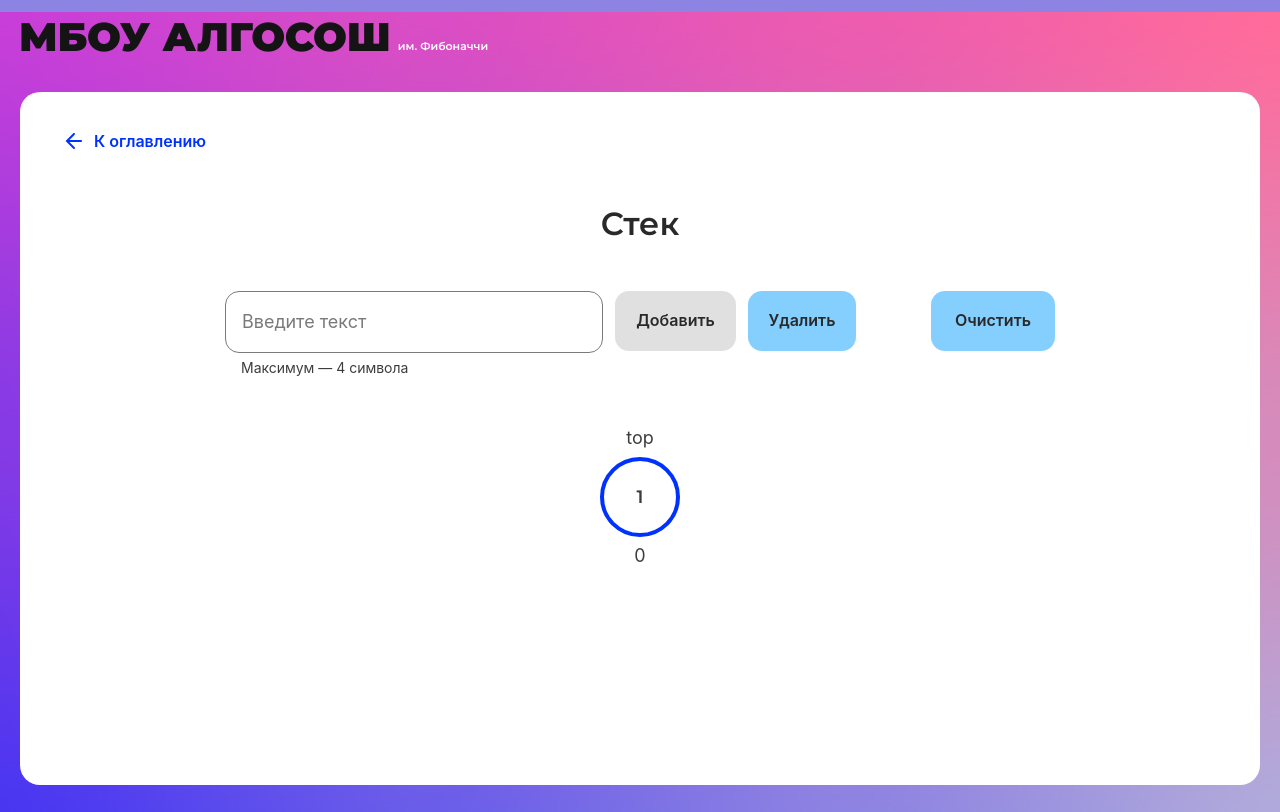
it: Тестирование корректной работы Стека › Добавление второго элемента в Стек происходит корректно
This screenshot has width=1280, height=812.
Type "2" into the field with test id "input".
click(414, 322); type("2")  # box [225,291,603,353]
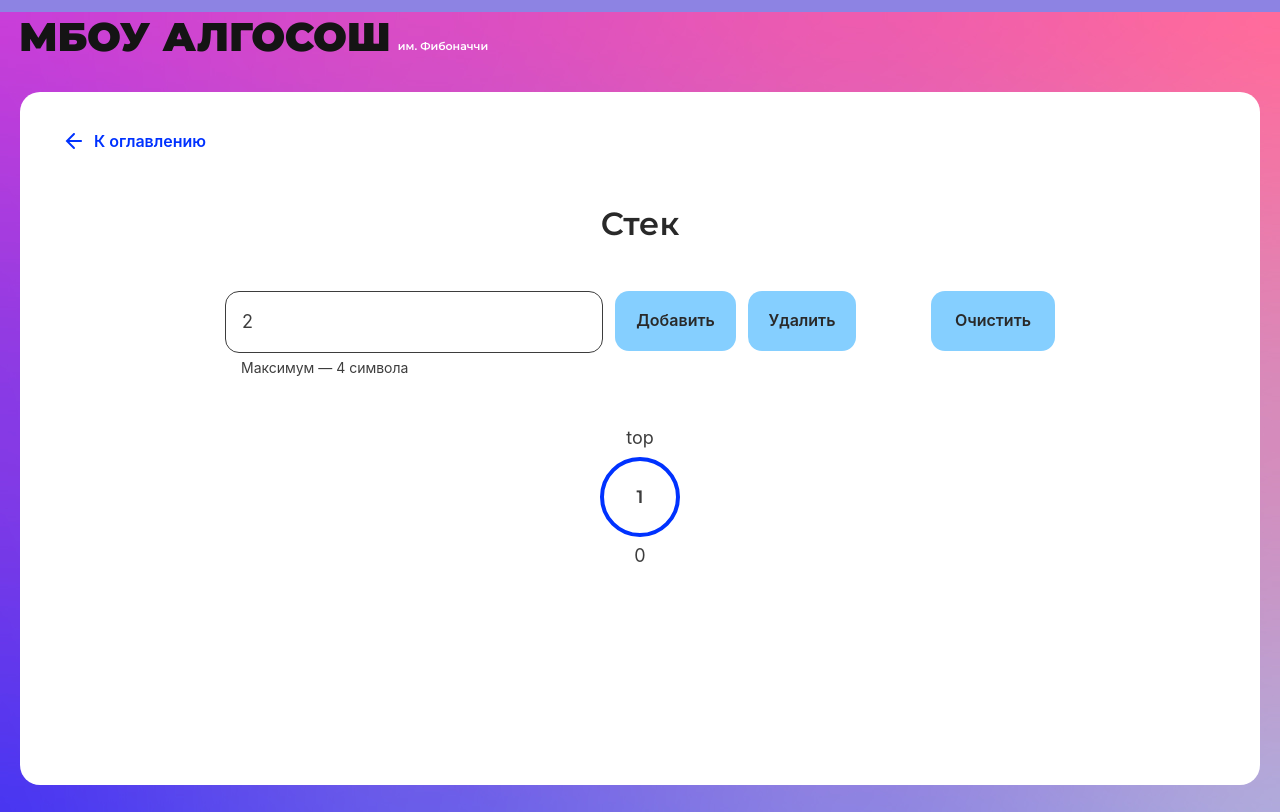
Click the button with test id "addBtn".
click(676, 321)  # box [615,291,736,351]
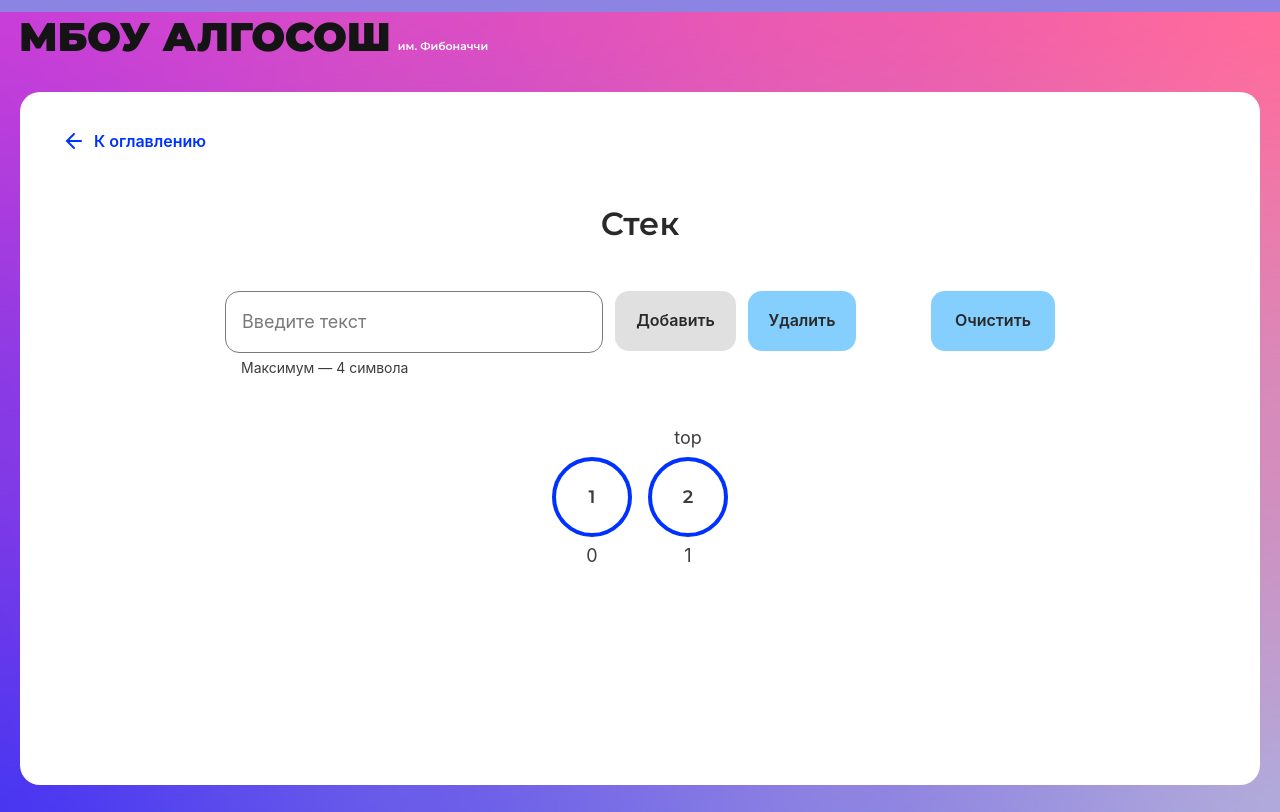
Expected: the text with test id "index" reads "0", [586,545,597,566]
Result: the text with test id "index" below "top" reads "1" at [684,545,691,566]
Result: the field with test id "input" is empty at [225,291,603,353]
